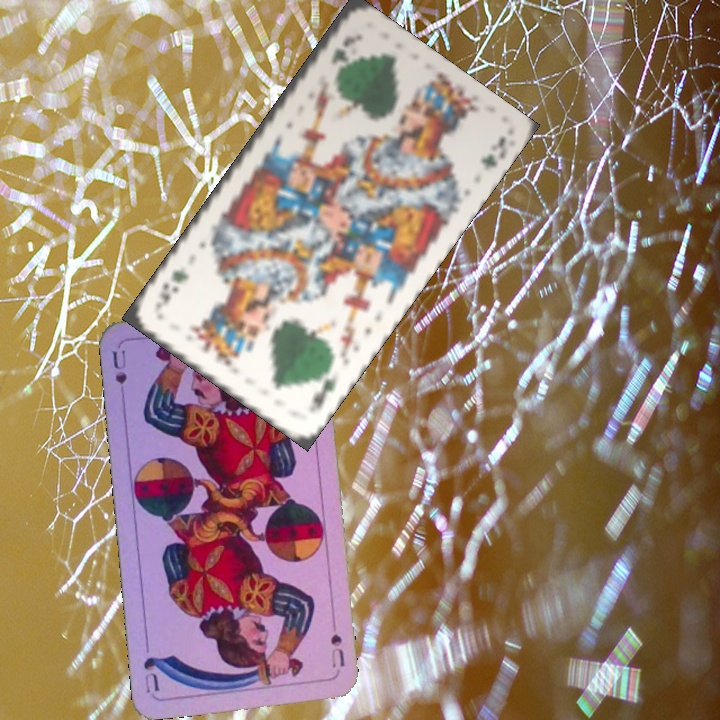GK: (307, 369, 341, 416), (327, 34, 358, 67)
SU: (108, 345, 130, 405), (327, 630, 347, 676)
